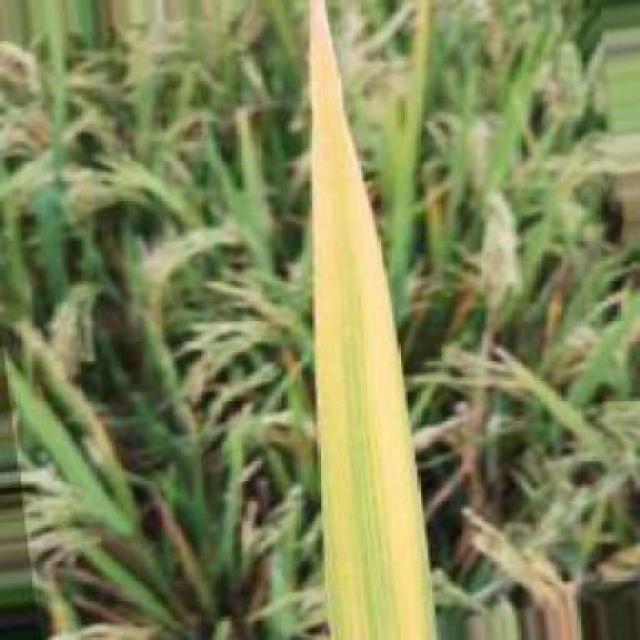Rice Tungro: (303, 4, 441, 640)
